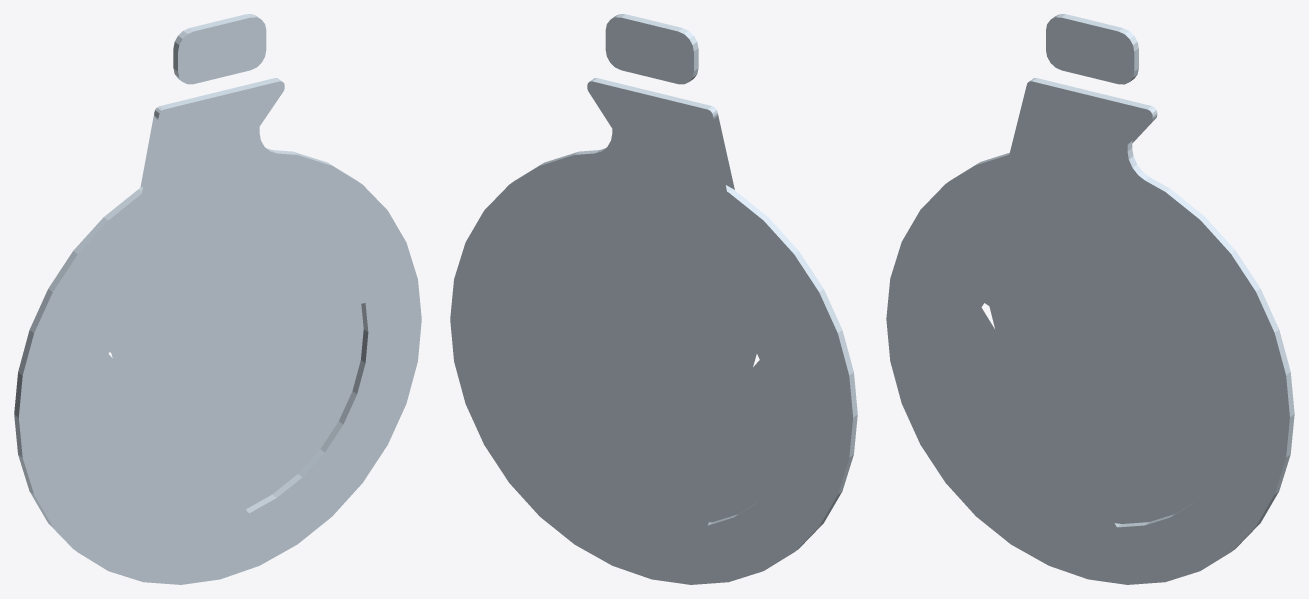
The model's file is Potion_3D_Icon.fbx.
The picture shows the model from 3 angles, left to right: view 1: azimuth 30°, elevation 25°; view 2: azimuth 150°, elevation 25°; view 3: azimuth 330°, elevation 25°; orthographic projection.
Parts seen in each view (by area): view 1: Potion_3D_Icon_01; view 2: Potion_3D_Icon_01; view 3: Potion_3D_Icon_01.
Boxes of the visible parts, left/top/right/bottom form: Potion_3D_Icon_01: left=14, top=14, right=421, bottom=584; Potion_3D_Icon_01: left=450, top=14, right=857, bottom=584; Potion_3D_Icon_01: left=886, top=14, right=1294, bottom=584.
Size of the model in its own units: 99.84 by 131 by 2.
